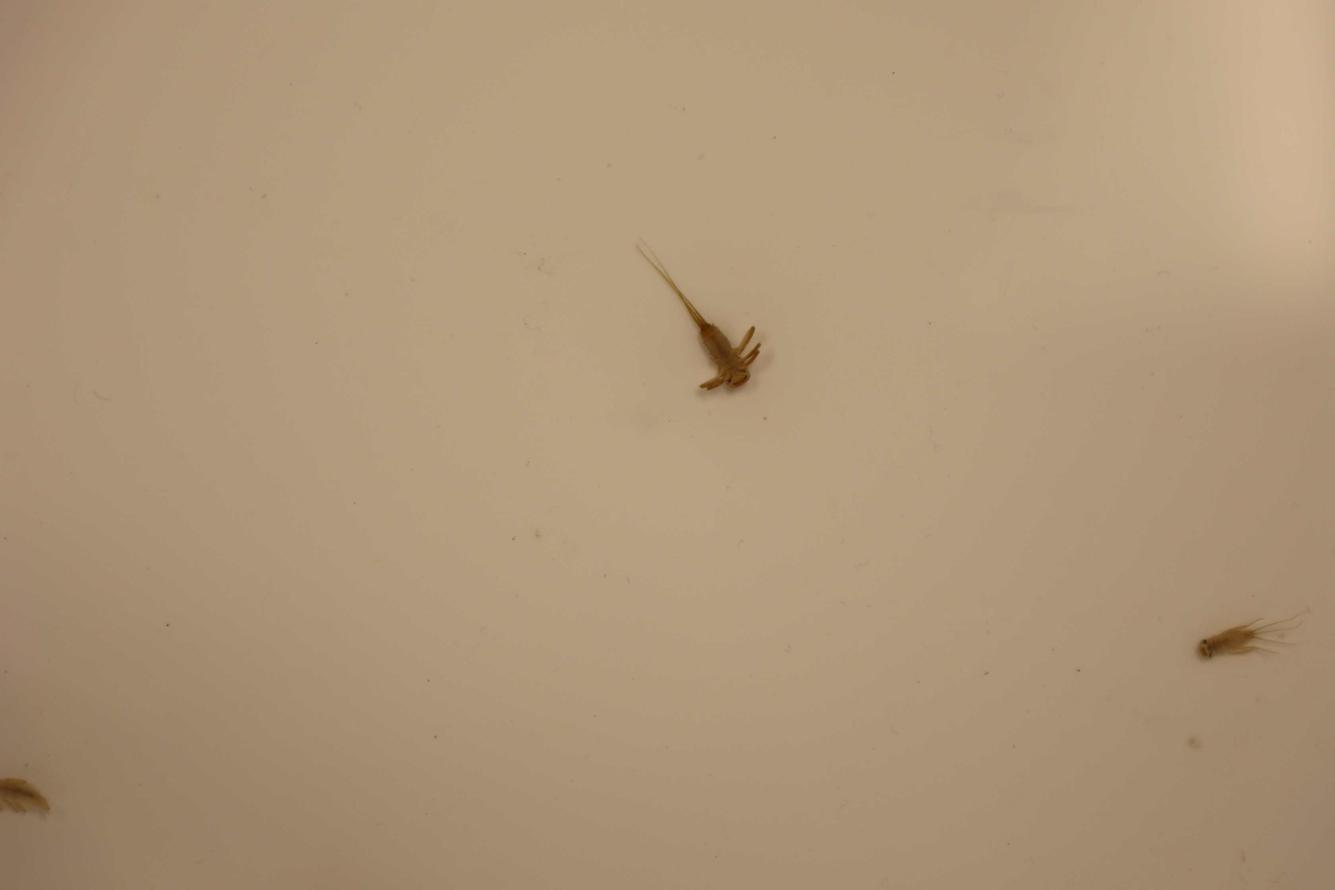Mayfly: (630, 241, 763, 399), (1191, 605, 1311, 667), (0, 773, 52, 821)
